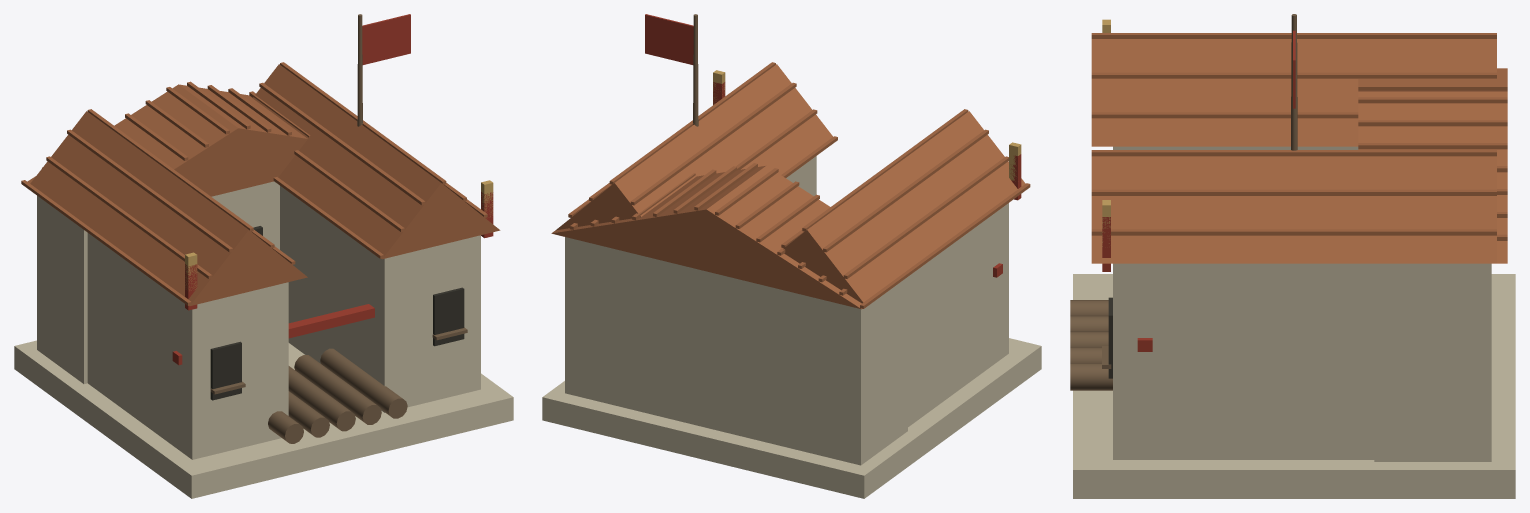
File: b-siege-roman.glb
3 renders of one model, left to right at view 1: azimuth 30°, elevation 25°; view 2: azimuth 150°, elevation 25°; view 3: azimuth 270°, elevation 25°, orthographic. The views are drawn at different scales.
Visible parts, largest first — view 1: Structure, era3; view 2: Structure; view 3: Structure.
Boxes of the visible parts, box(x1,y1,x2,y2) form: Structure: box(14, 14, 513, 498); era3: box(185, 180, 493, 290); Structure: box(542, 14, 1041, 498); Structure: box(1070, 14, 1515, 498).
Size of the model in its own units: 4.35 by 4.6 by 4.17.
